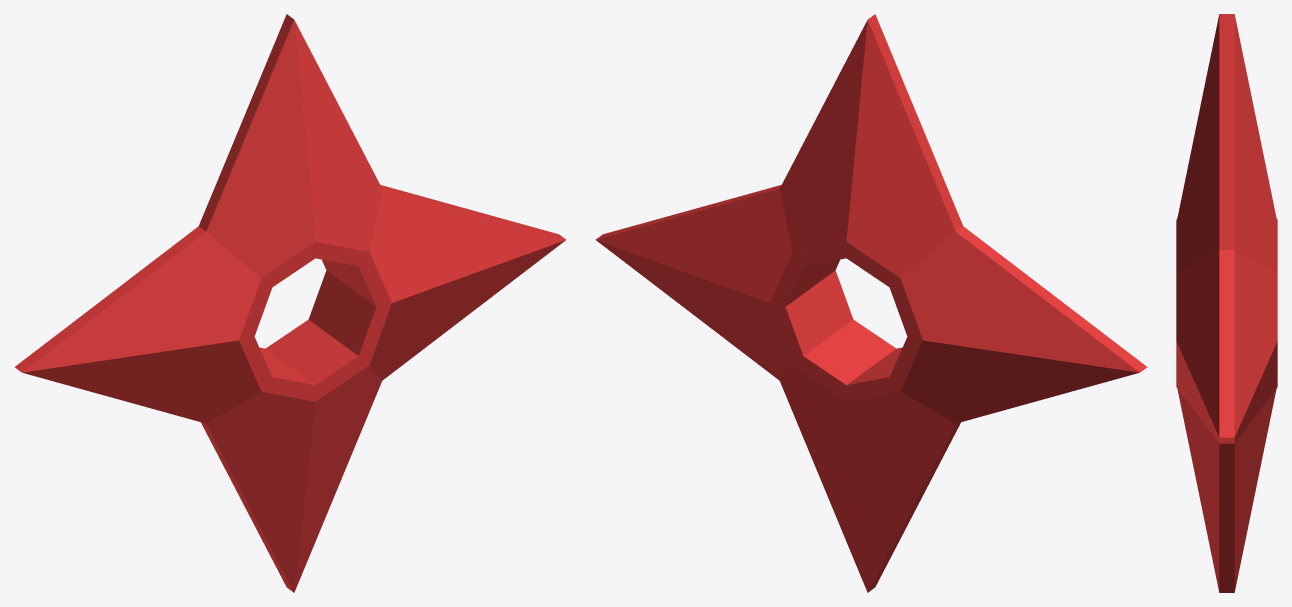
File: EnemyStar.fbx
3 renders of one model, left to right at view 1: azimuth 30°, elevation 25°; view 2: azimuth 150°, elevation 25°; view 3: azimuth 270°, elevation 25°, orthographic.
Visible parts, largest first — view 1: EnemyStar; view 2: EnemyStar; view 3: EnemyStar.
Boxes of the visible parts, x1,y1,x2,y2 form: EnemyStar: (14, 14, 566, 592); EnemyStar: (595, 14, 1147, 592); EnemyStar: (1176, 14, 1277, 592).
Size of the model in its own units: 1.57 by 1.58 by 0.25.
